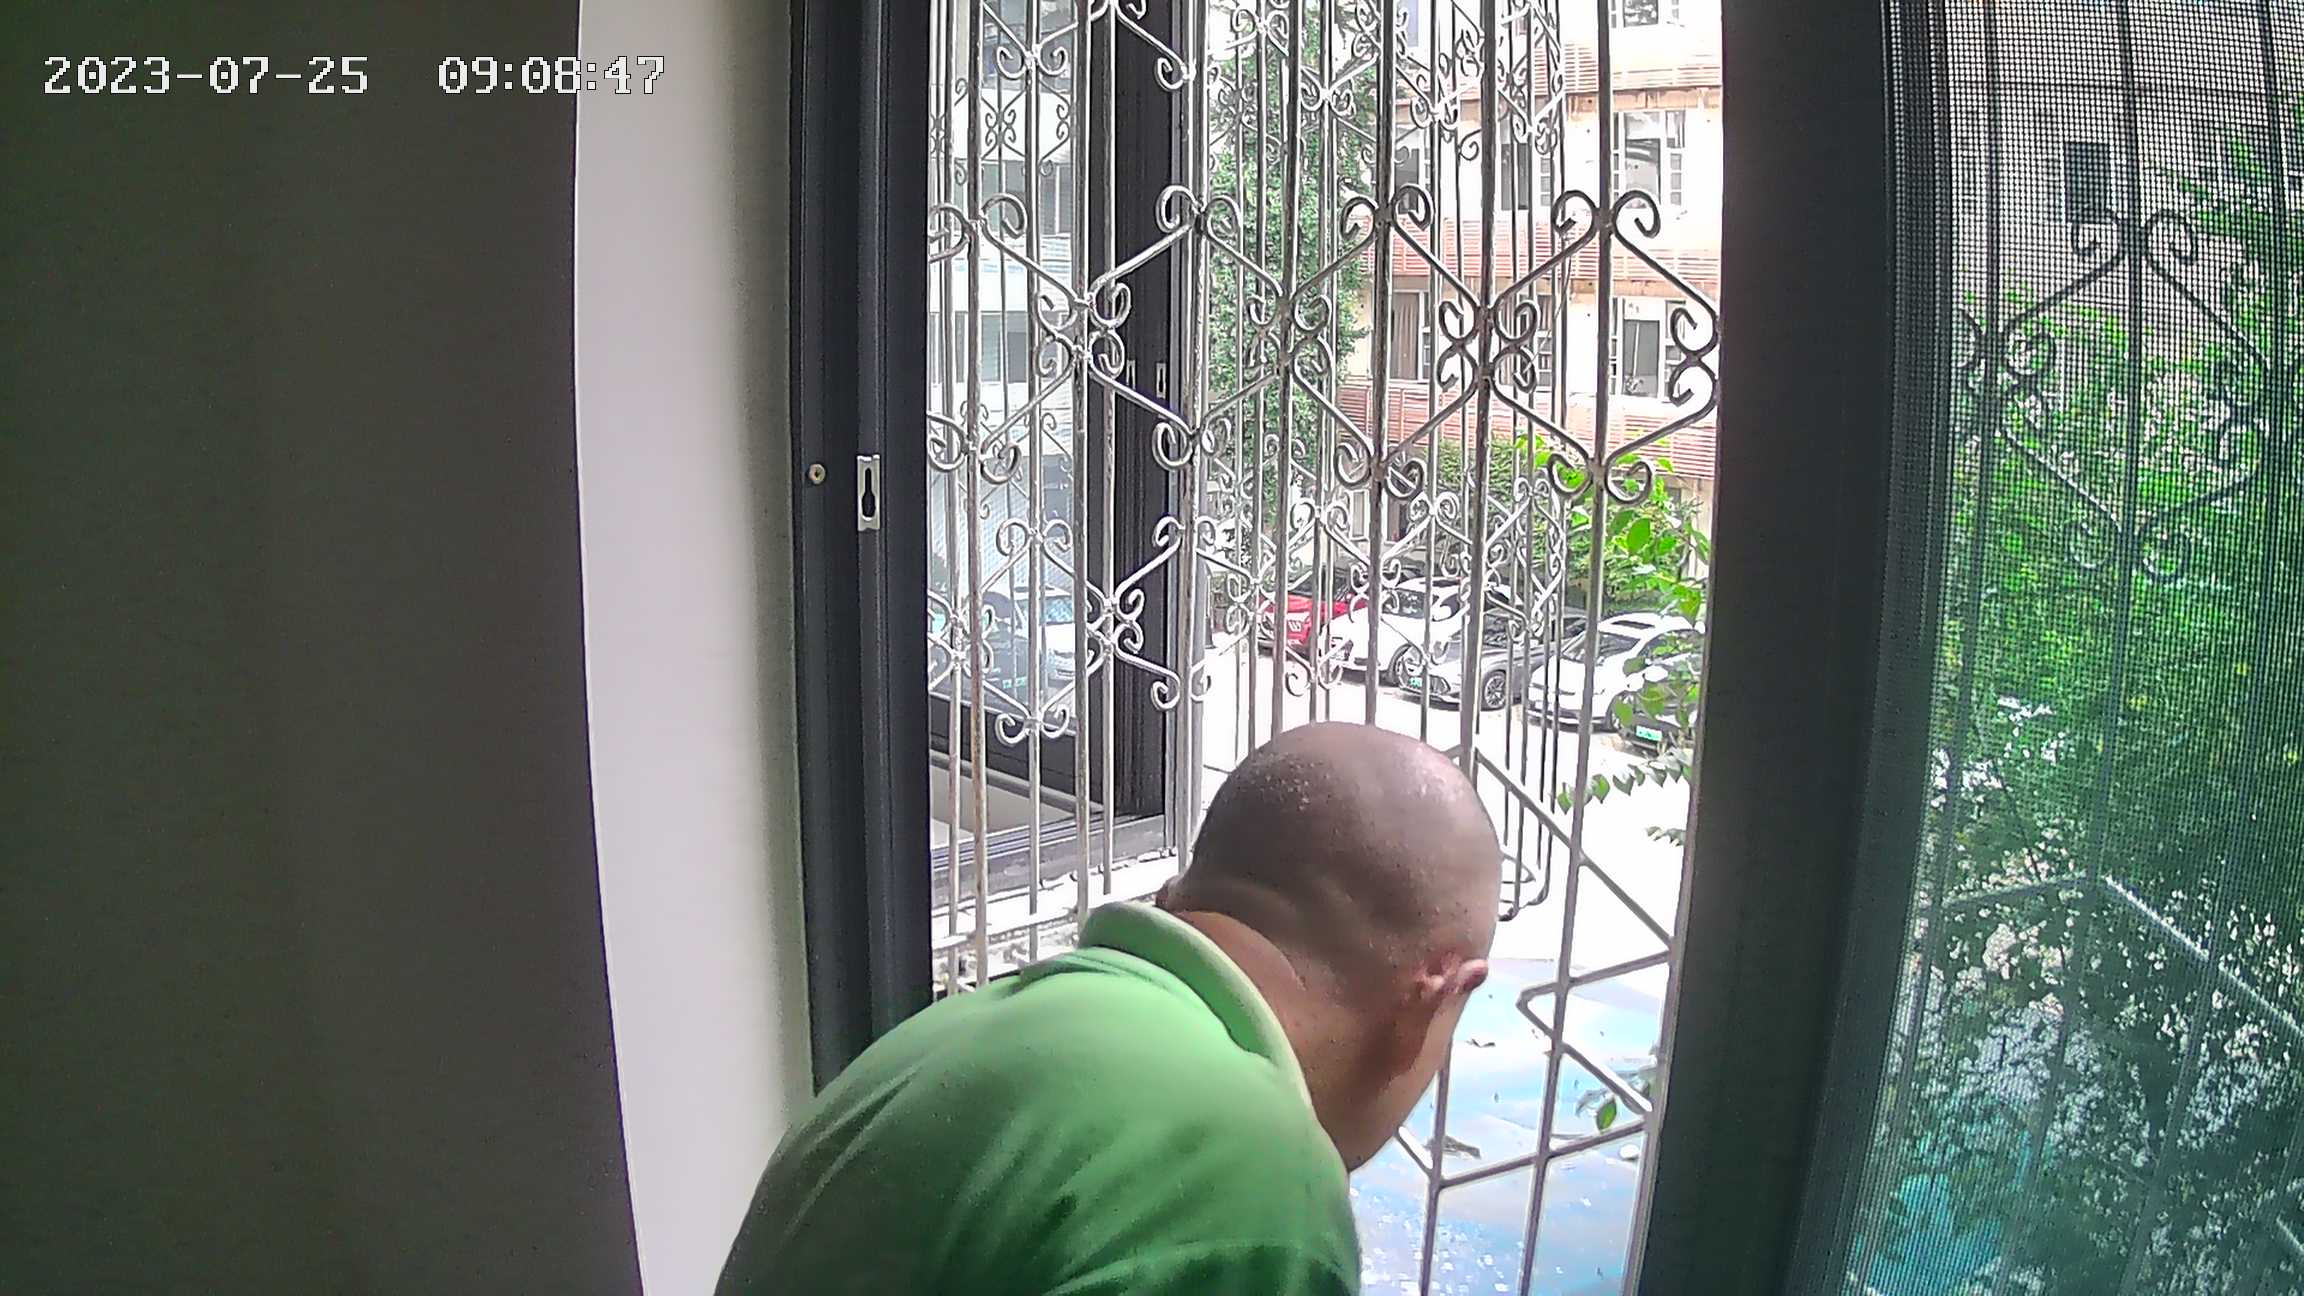people: (698, 718, 1507, 1296)
window: (817, 1, 2302, 1296)
